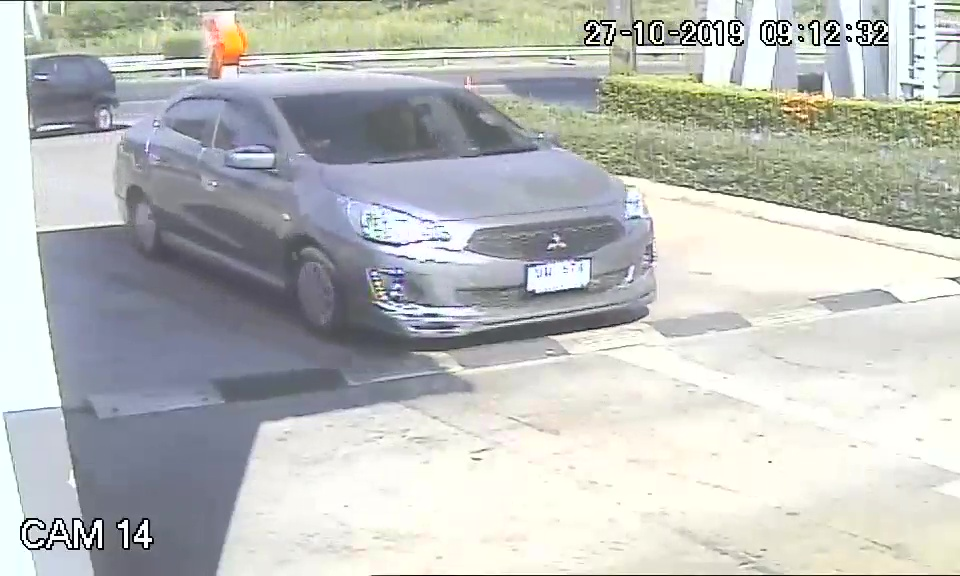sedan: (111, 71, 659, 343)
